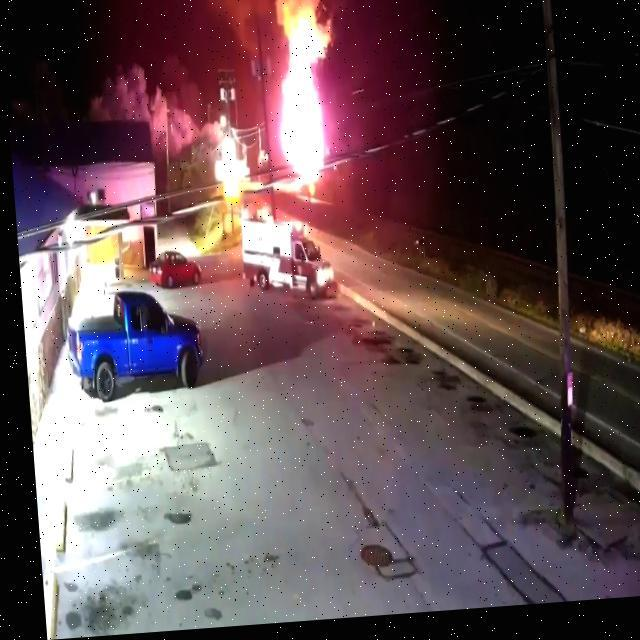Fire: (260, 0, 341, 178)
